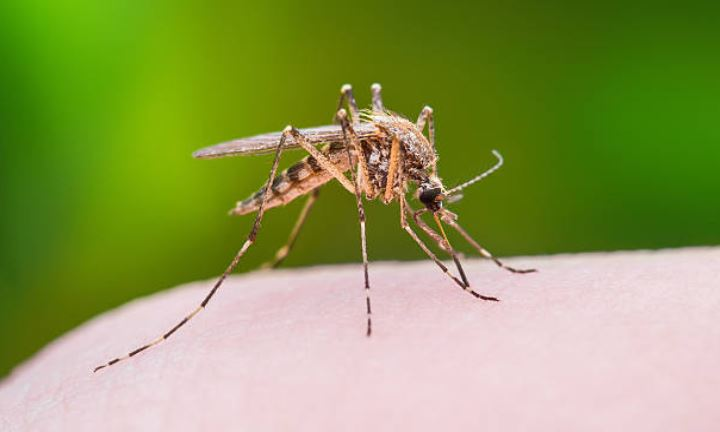dengue_mosquito: (192, 82, 537, 297)
